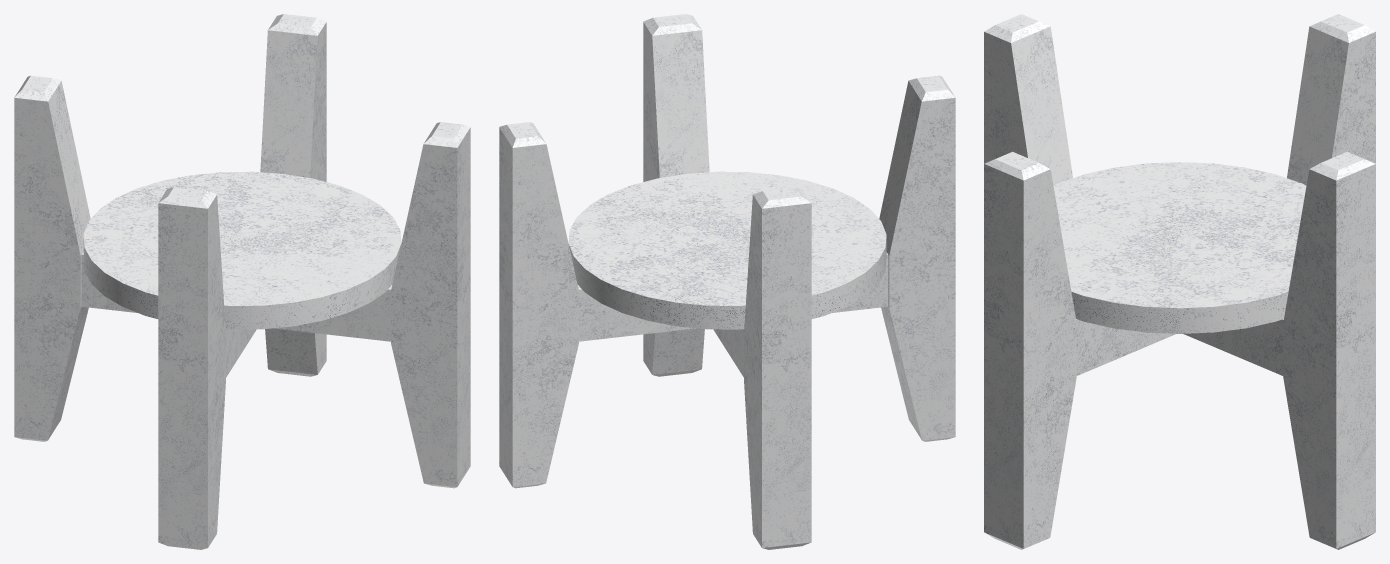
Rendered from PotStand_B0.fbx.
3 views of the same model, side by side, from view 1: azimuth 30°, elevation 25°; view 2: azimuth 150°, elevation 25°; view 3: azimuth 270°, elevation 25° (orthographic). The views are drawn at different scales.
Visible parts, largest first — view 1: PotStand_B0, PotStand_B00; view 2: PotStand_B0, PotStand_B00; view 3: PotStand_B0, PotStand_B00.
Part boxes in pixels (bbox=[...]): PotStand_B0: bbox=[14, 14, 470, 549]; PotStand_B00: bbox=[83, 171, 401, 329]; PotStand_B0: bbox=[499, 14, 955, 549]; PotStand_B00: bbox=[568, 171, 886, 329]; PotStand_B0: bbox=[984, 14, 1375, 549]; PotStand_B00: bbox=[1053, 162, 1306, 333].
Size of the model in its own units: 0.1385 by 0.148 by 0.1385.
